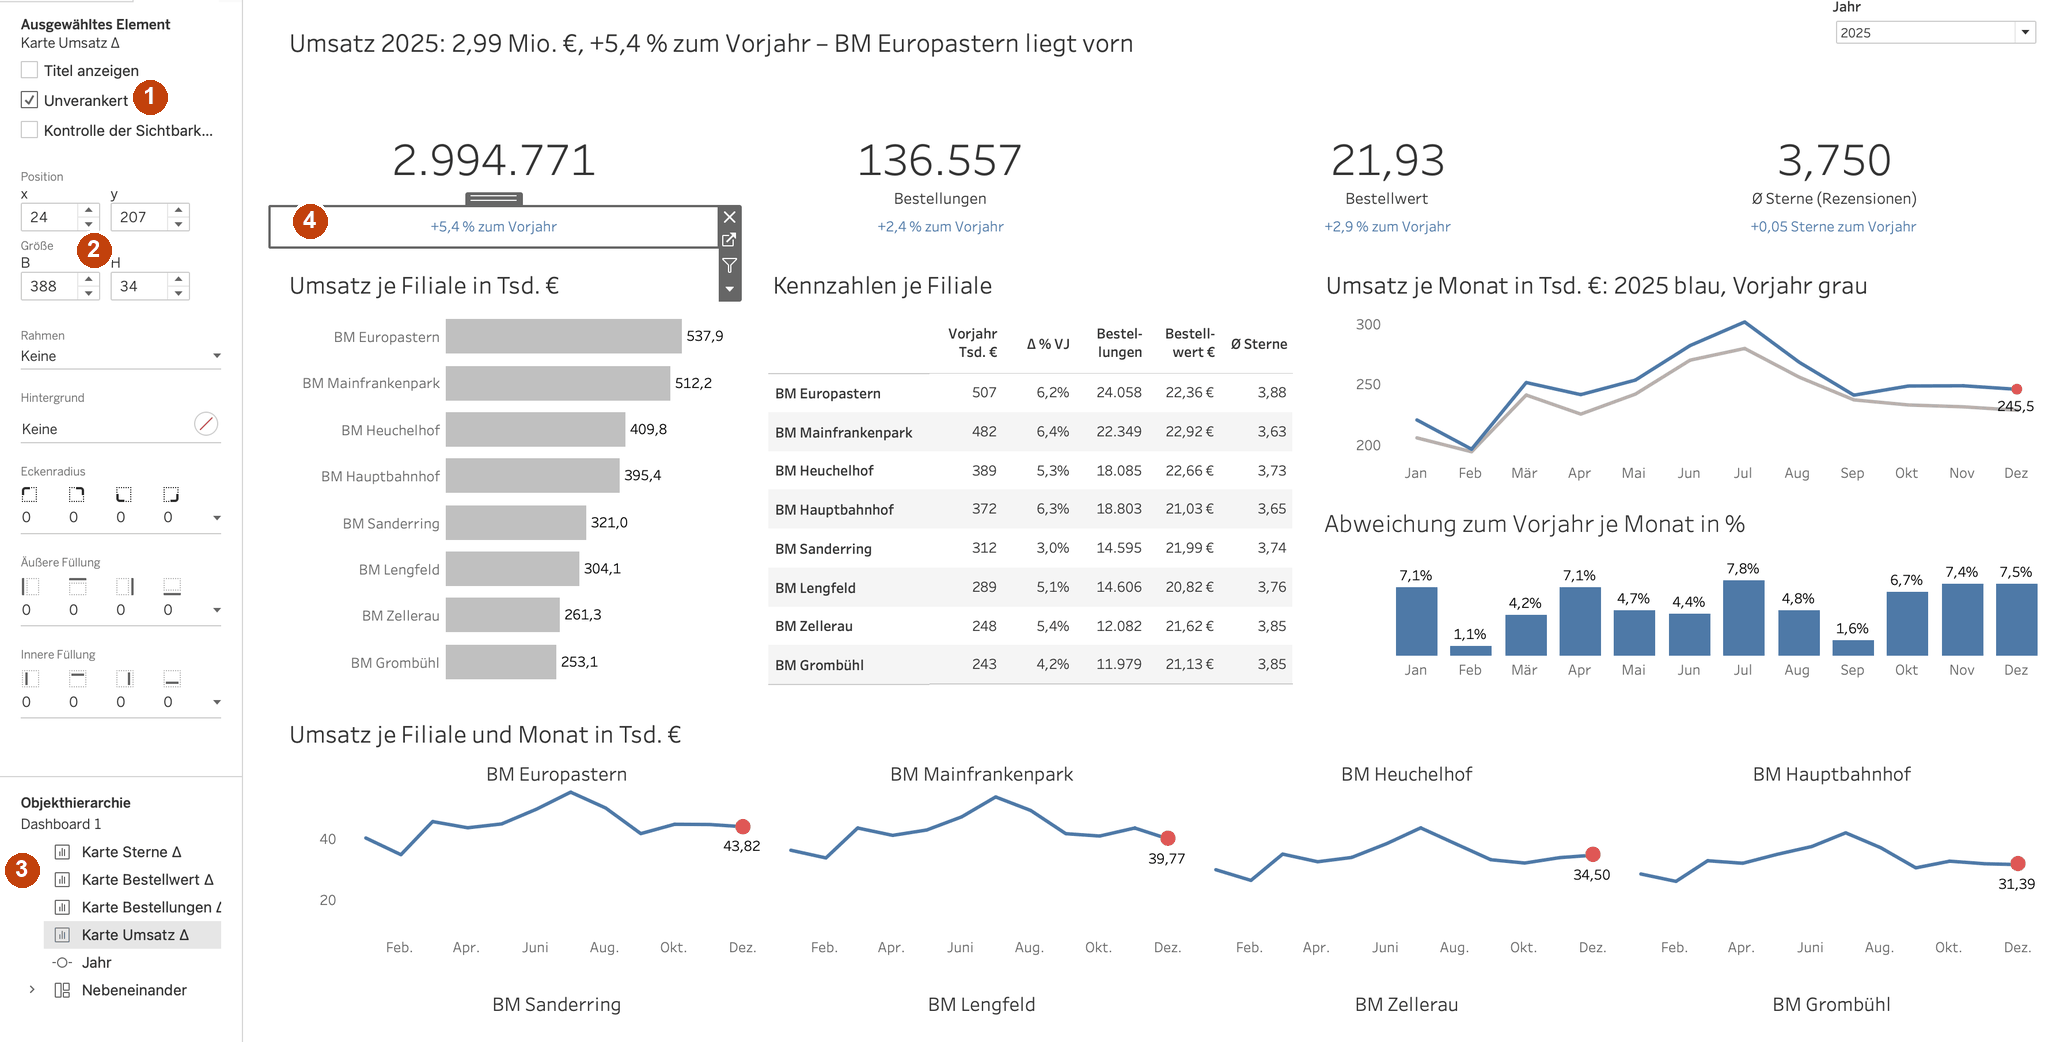

Layout of this report page (visuals, bound fields, positions):
{"tool":"tableau","page":{"name":"Dashboard 1","canvas":[1600,1000],"ordinal":0},"visuals":[{"type":"worksheet","title":"Titel","mark":"Automatic","box":[8,8,792,80]},{"type":"worksheet","title":"Umsatz je Monat","mark":"Automatic","rows":["Calculation_5100132365418516"],"cols":["date"],"box":[800,8,792,246]},{"type":"parameter","param":"[Parameters].[Parameter 5100132363096068]","box":[1432,8,160,52]},{"type":"worksheet","title":"Karte Umsatz","mark":"Automatic","box":[8,88,198,166]},{"type":"worksheet","title":"Karte Bestellungen","mark":"Automatic","box":[206,88,198,166]},{"type":"worksheet","title":"Karte Bestellwert","mark":"Automatic","box":[404,88,198,166]},{"type":"worksheet","title":"Karte Sterne","mark":"Automatic","box":[602,88,198,166]},{"type":"worksheet","title":"Filialen Umsatz","mark":"Automatic","rows":["branch_name"],"cols":["Calculation_5100132365291538"],"box":[8,254,297,246]},{"type":"worksheet","title":"Filialen Kennzahlen","mark":"Automatic","rows":["branch_name"],"box":[305,254,495,246]},{"type":"worksheet","title":"Abweichung je Monat","mark":"Bar","rows":["Calculation_5100132363948041"],"cols":["date"],"box":[800,254,792,246]},{"type":"worksheet","title":"Filialen je Monat","mark":"Automatic","rows":["branch_name","Calculation_5100132365291538","Calculation_5100132365418516"],"cols":["date"],"box":[8,500,1584,492]}]}

Visuals, with their boxes on the page's 1600x1000 design canvas (x1, y1, x2, y2). These are canvas units, not pixel positions in the 2056x1042 screenshot, which may show the page scaled, cropped or inside an application window:
"Titel" worksheet: bbox=(8, 8, 800, 88)
"Umsatz je Monat" worksheet: bbox=(800, 8, 1592, 254)
parameter: bbox=(1432, 8, 1592, 60)
"Karte Umsatz" worksheet: bbox=(8, 88, 206, 254)
"Karte Bestellungen" worksheet: bbox=(206, 88, 404, 254)
"Karte Bestellwert" worksheet: bbox=(404, 88, 602, 254)
"Karte Sterne" worksheet: bbox=(602, 88, 800, 254)
"Filialen Umsatz" worksheet: bbox=(8, 254, 305, 500)
"Filialen Kennzahlen" worksheet: bbox=(305, 254, 800, 500)
"Abweichung je Monat" worksheet (Bar marks): bbox=(800, 254, 1592, 500)
"Filialen je Monat" worksheet: bbox=(8, 500, 1592, 992)
